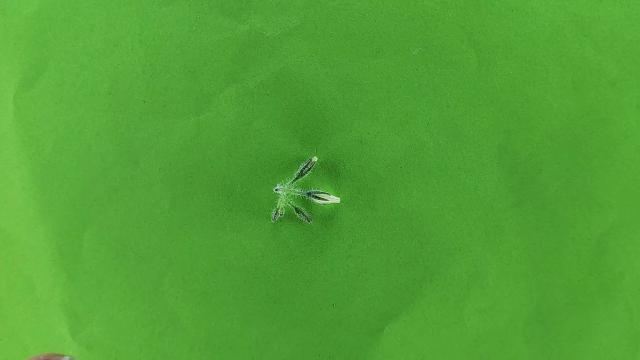Flower Bud: (289, 156, 318, 185), (288, 201, 312, 225), (304, 191, 341, 205), (271, 208, 284, 223)
